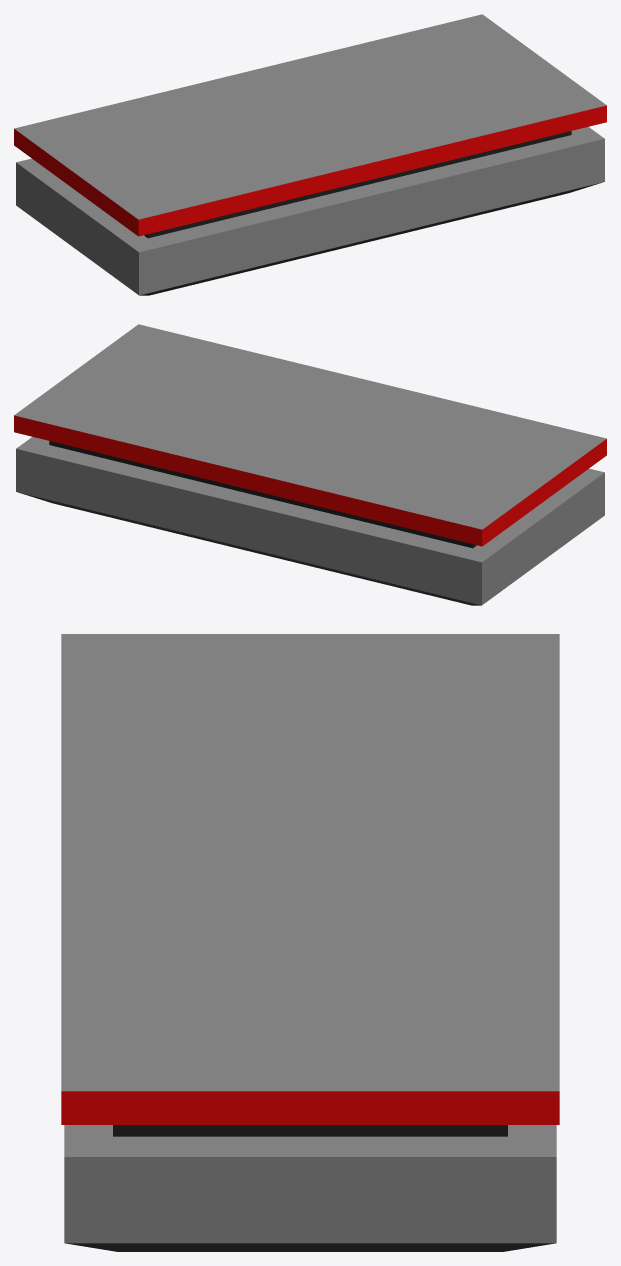
Rendered from Bar_foyer.FBX.
The picture shows the model from 3 angles, top to bottom: view 1: azimuth 30°, elevation 25°; view 2: azimuth 150°, elevation 25°; view 3: azimuth 270°, elevation 25°; orthographic projection. The views are drawn at different scales.
Visible parts, largest first — view 1: Box001; view 2: Box001; view 3: Box001.
Boxes of the visible parts, x1,y1,x2,y2 form: Box001: (14, 14, 606, 295); Box001: (14, 324, 606, 605); Box001: (61, 634, 559, 1251).
Size of the model in its own units: 77.54 by 14.59 by 35.7.
